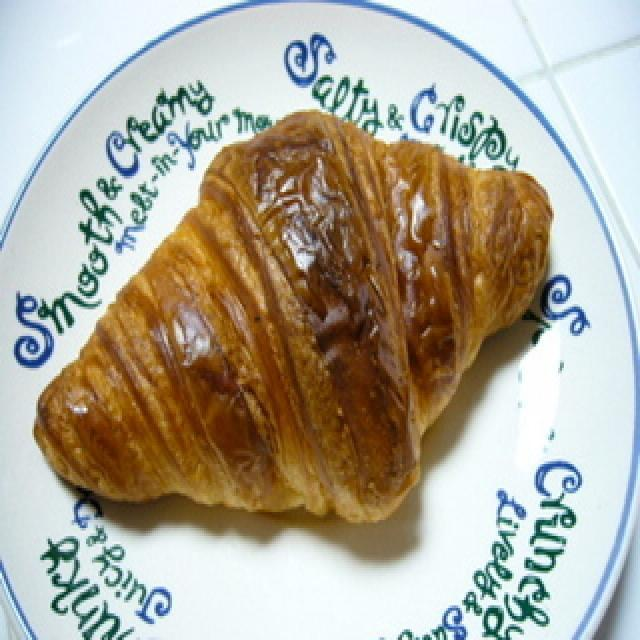Croissant: (28, 104, 566, 530)
